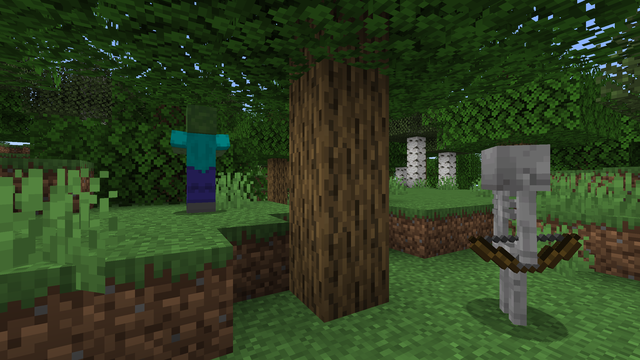squelettes: (472, 143, 555, 336)
zombies: (183, 105, 219, 213)
